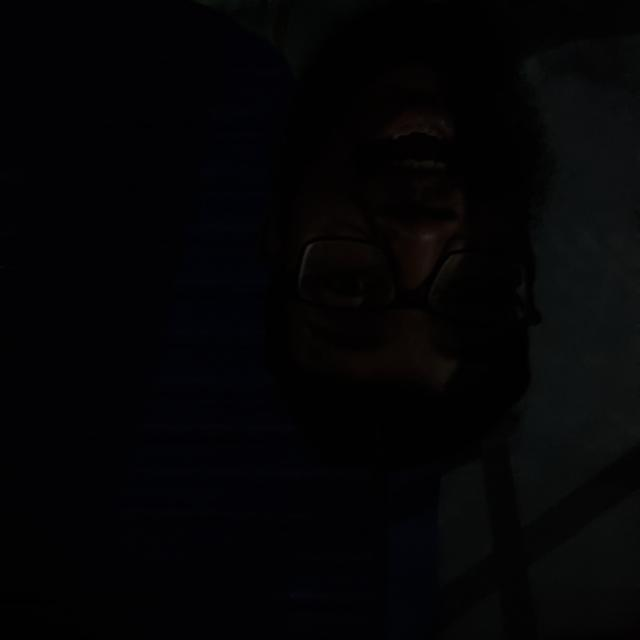Surprised: (279, 97, 541, 465)
